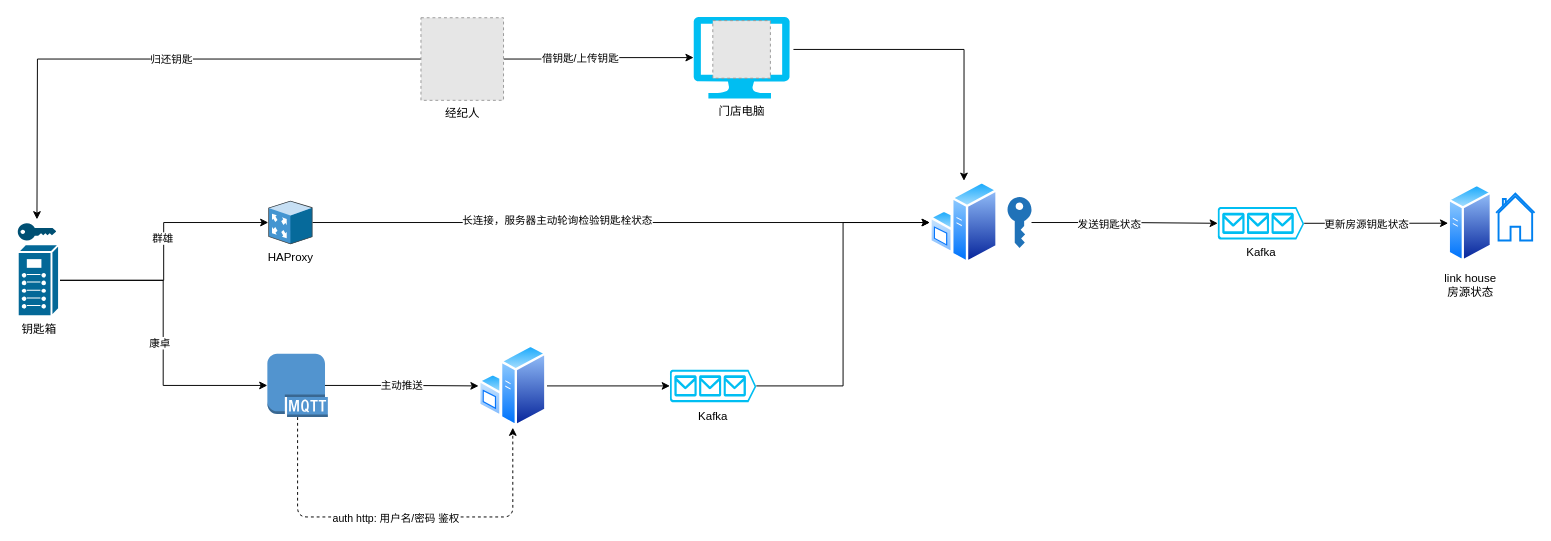
This 1551x541 diagram has some shape labels left out. Grey dashed boxes stand in for pictures. The shapes that lost their labels are listed below. From the top down, each one's centre as x and y in pixels, then its label:
the point at 963,222: sh-keybox
the point at 297,385: mqtt
the point at 512,385: kzBoxManager
